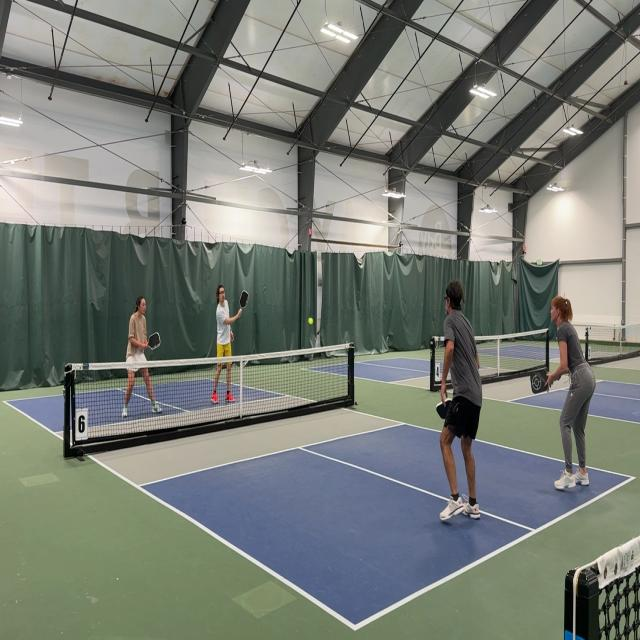ball: (307, 316, 314, 326)
